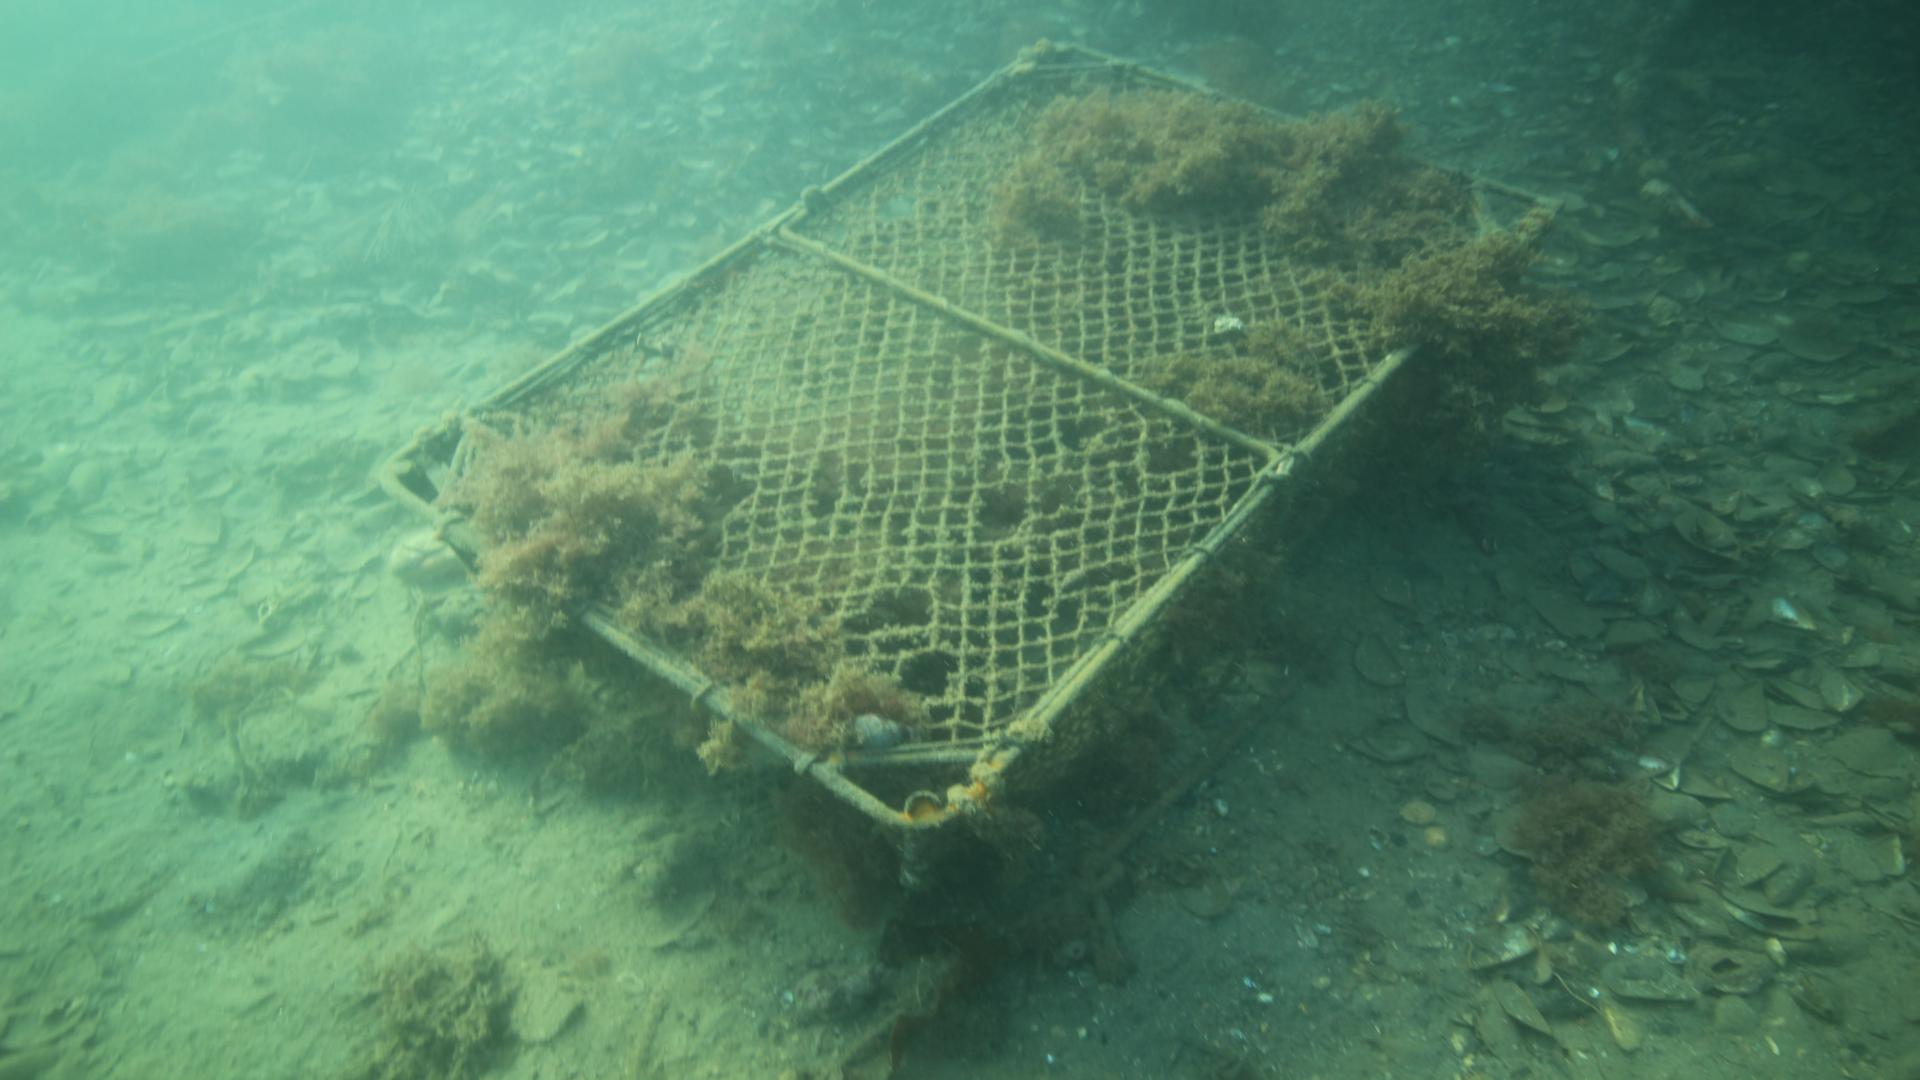rectangular fish trap: (372, 33, 1565, 920)
